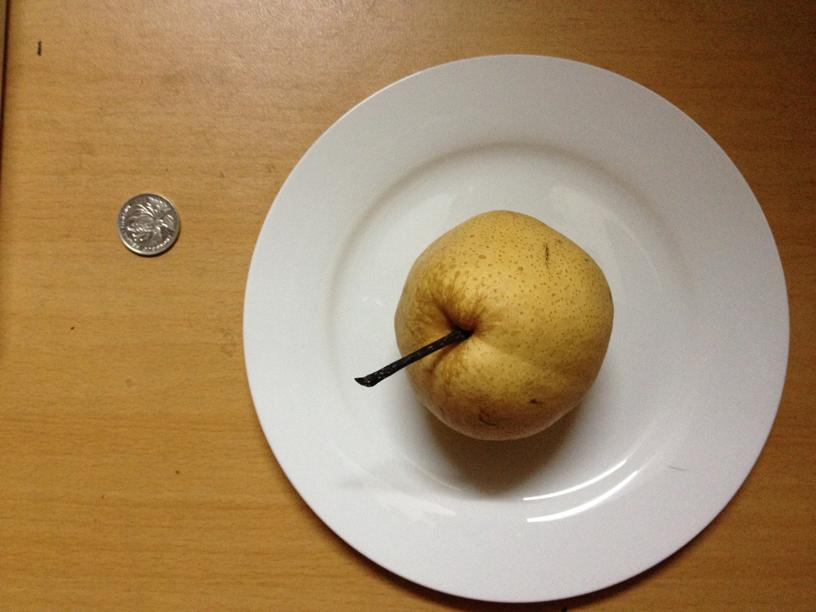coin: (118, 192, 182, 257)
pear: (383, 209, 613, 440)
